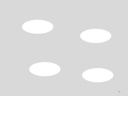round: (79, 65, 116, 85), (27, 59, 62, 79), (20, 17, 56, 36), (77, 27, 112, 44)
